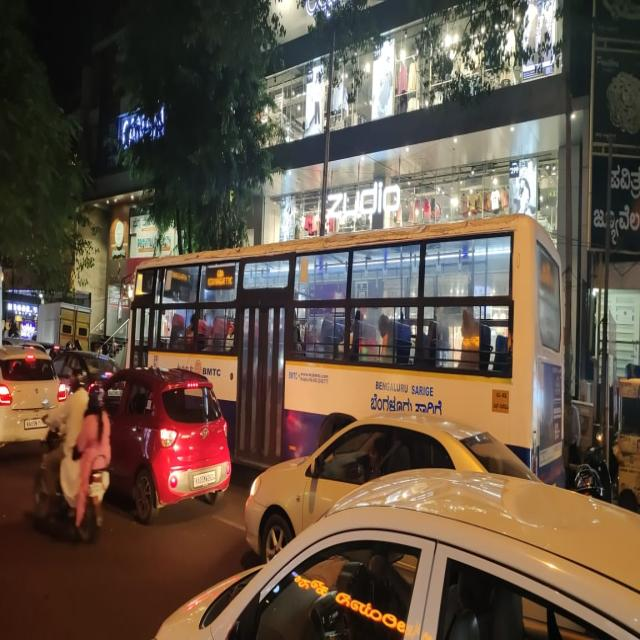bus: (118, 208, 580, 523)
display: (206, 267, 235, 288)
dnumber: (216, 270, 226, 277)
